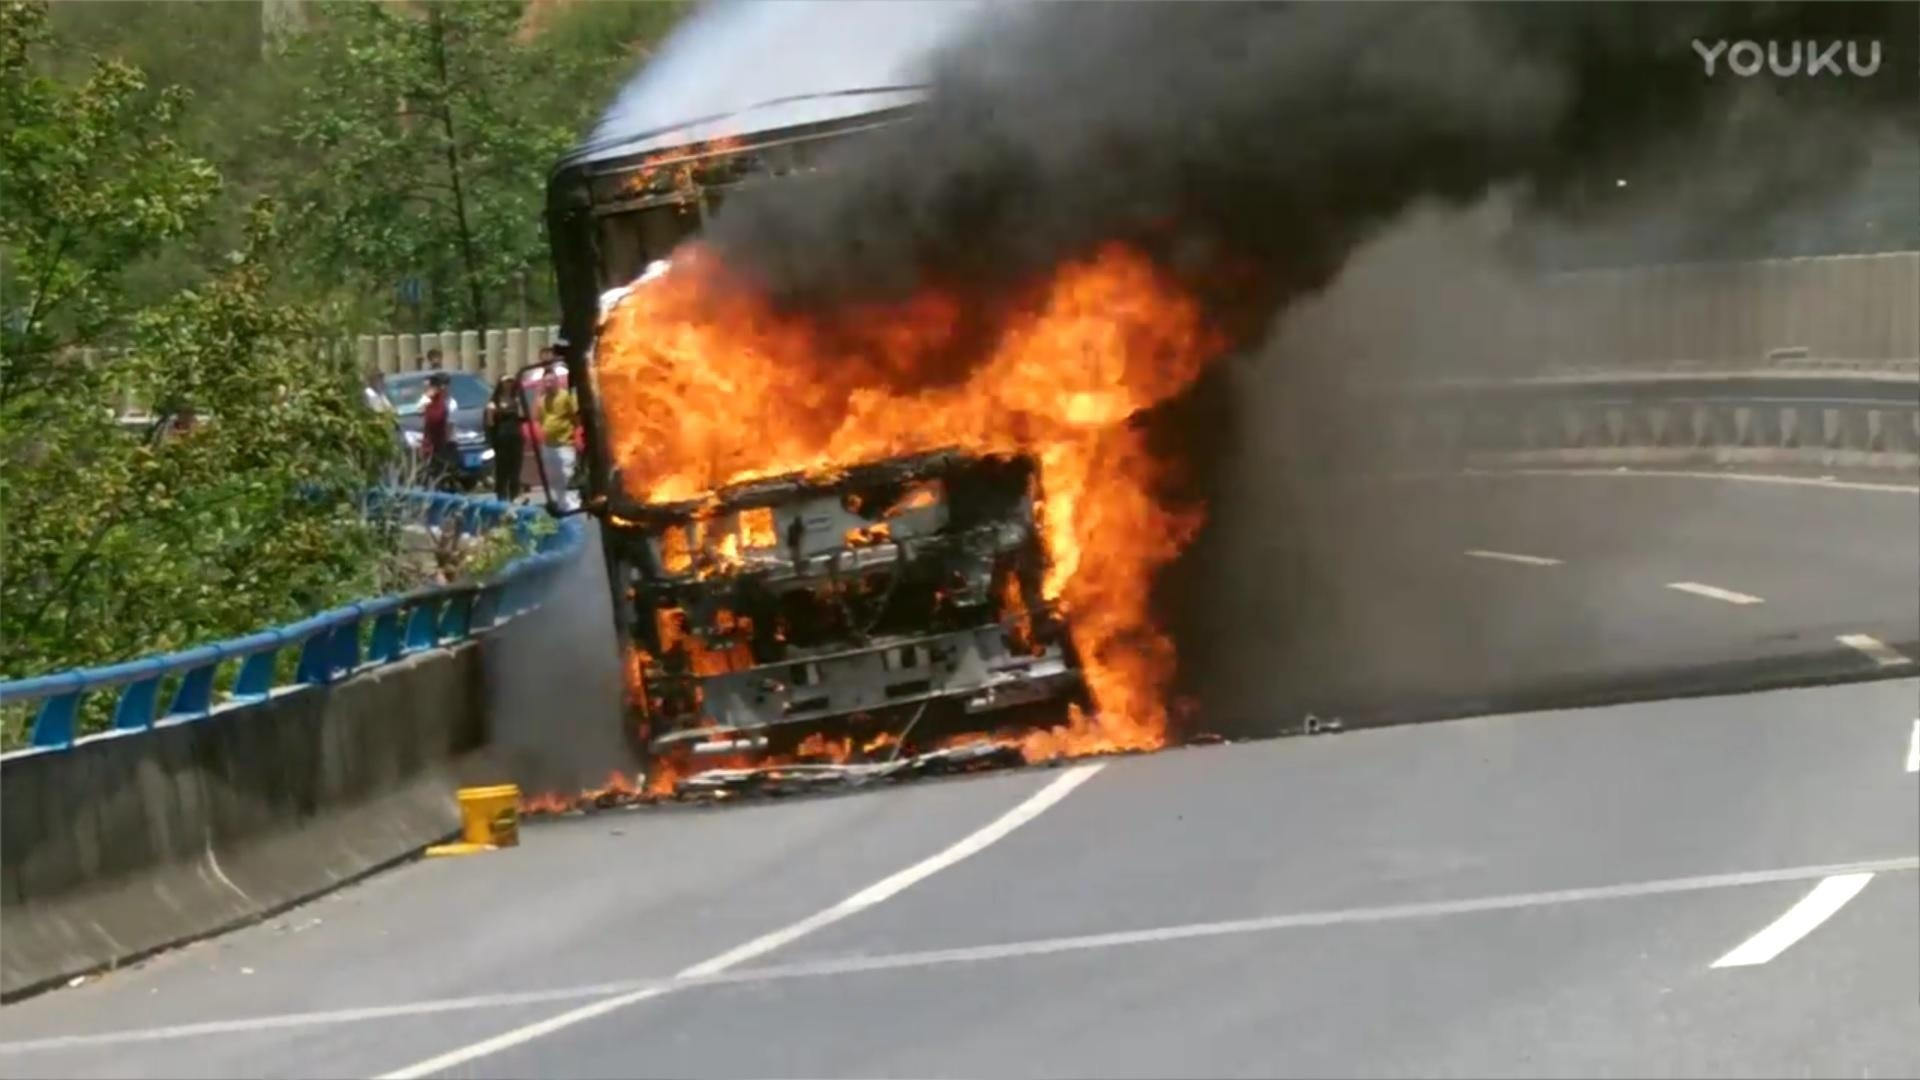fire: (578, 233, 1224, 798)
